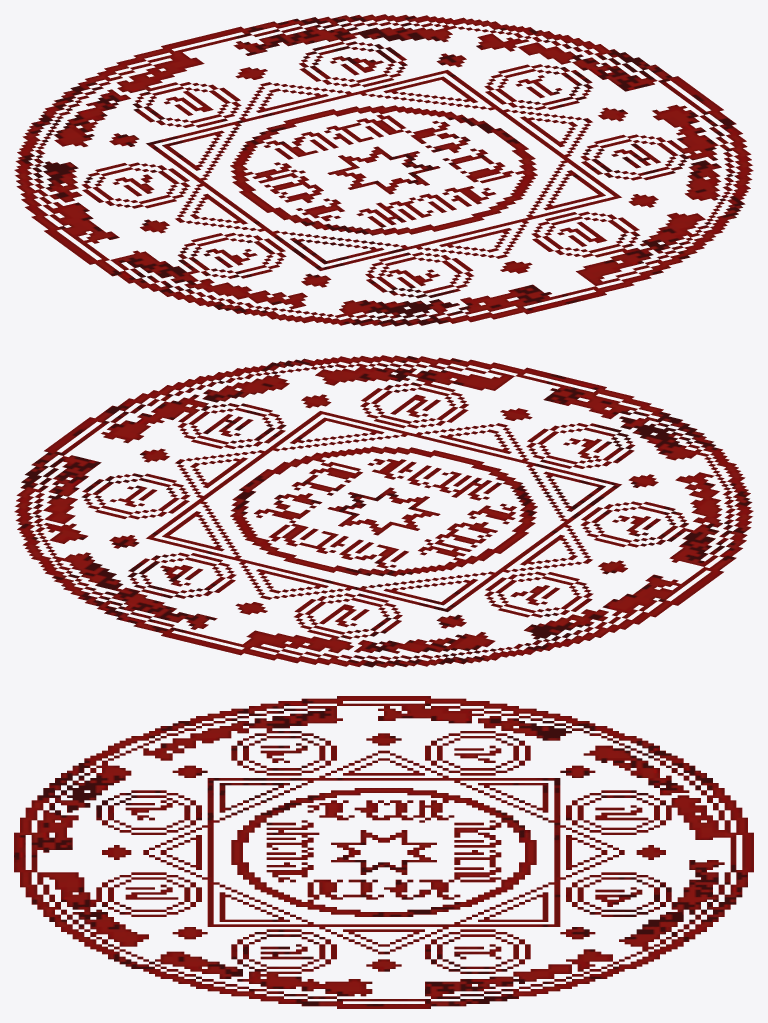
The model's file is ObjMD_Ev_Blood_MagicCircle_A.FBX.
3 renders of one model, top to bottom at view 1: azimuth 30°, elevation 25°; view 2: azimuth 150°, elevation 25°; view 3: azimuth 270°, elevation 25°, orthographic.
Parts seen in each view (by area): view 1: ObjMD_Ev_Blood_MagicCircle_A; view 2: ObjMD_Ev_Blood_MagicCircle_A; view 3: ObjMD_Ev_Blood_MagicCircle_A.
Part boxes in pixels (x1,y1,x2,y2): ObjMD_Ev_Blood_MagicCircle_A: [14, 14, 753, 326]; ObjMD_Ev_Blood_MagicCircle_A: [14, 355, 753, 667]; ObjMD_Ev_Blood_MagicCircle_A: [14, 696, 753, 1008].
Size of the model in its own units: 788 by 4.83e-14 by 788.
